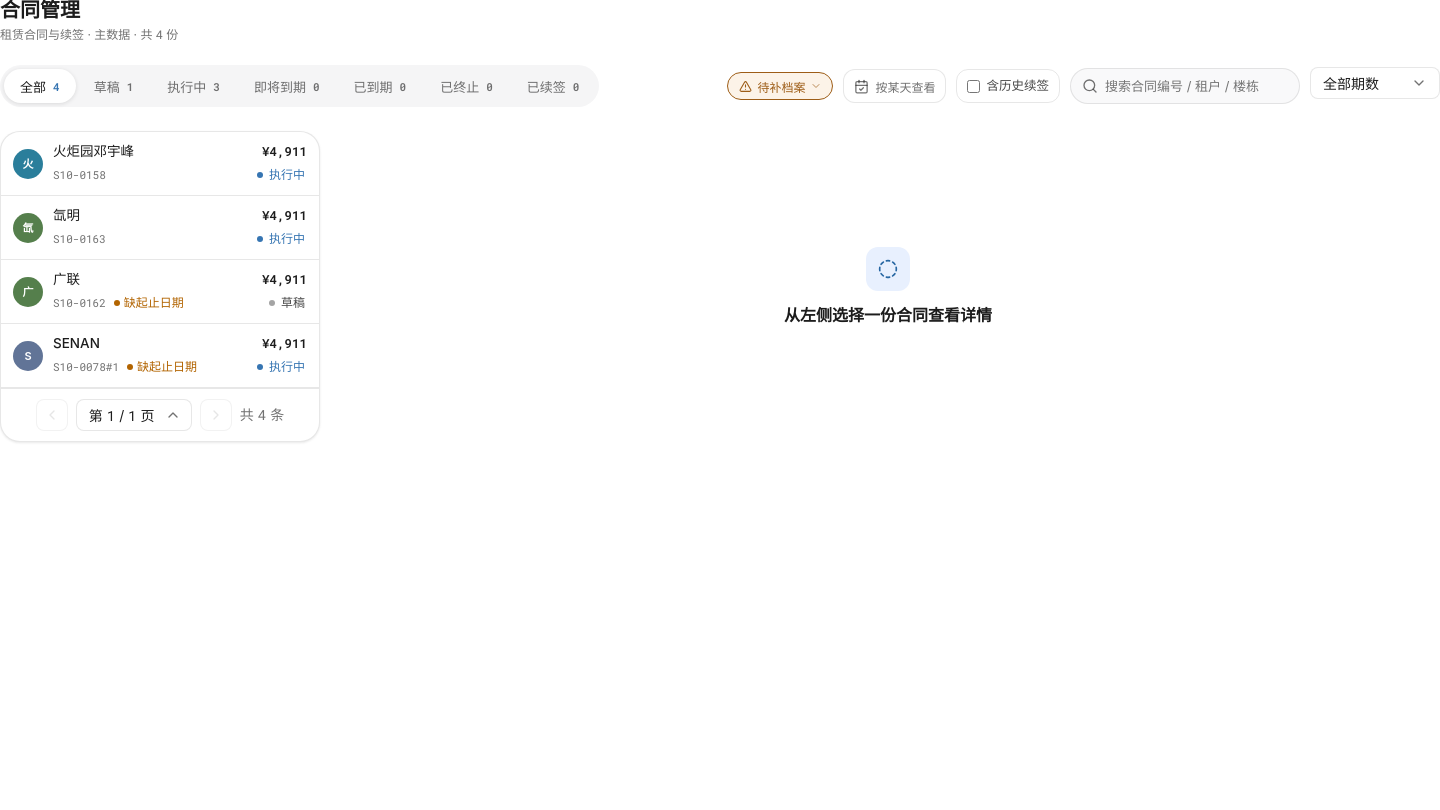
Test: 合同管理 · 待补档案入口(画布 01-B) › ❗点「缺起止日期」:列表只剩命中的合同,胶囊变实底「缺起止日期 2 ×」,弹层收起
Click the button with class "fac" at (780, 86), box [728,72,834,100]
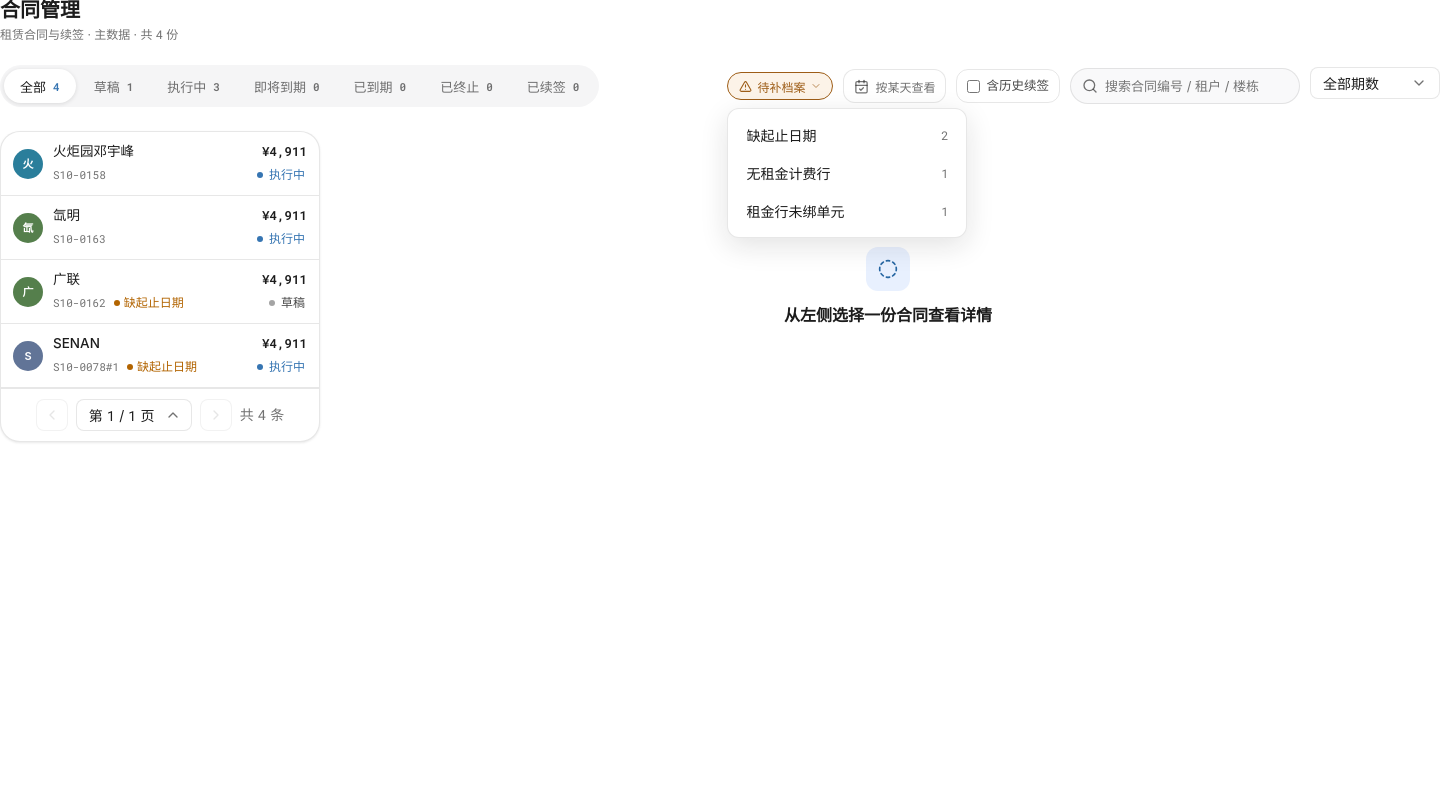
Click the button "缺起止日期 2" at (848, 135), box [736,117,958,153]
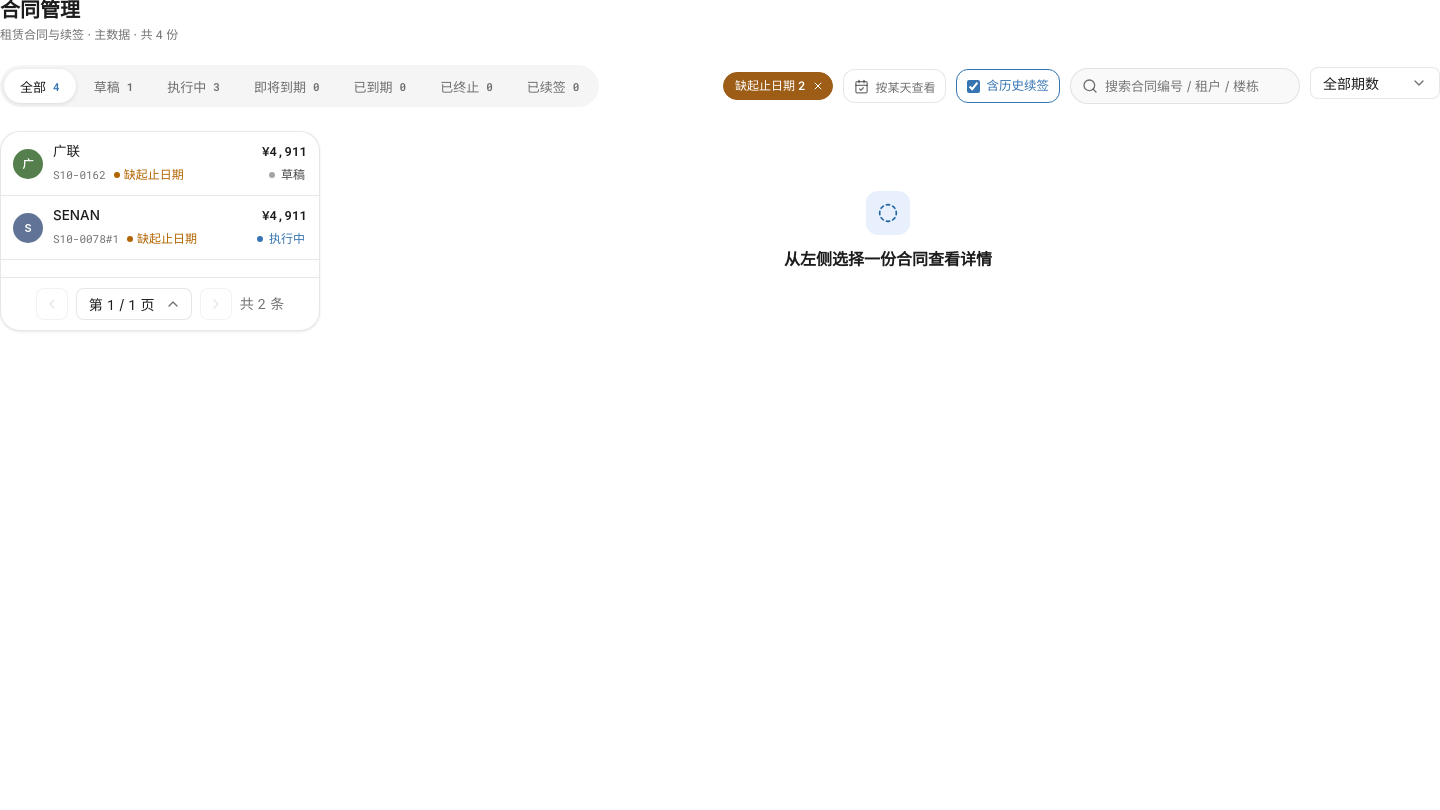
Expected: the element with class "fac" reads "缺起止日期 2", [723,72,834,100]
Expected: the button named "清除筛选" is shown, [810,78,826,94]
